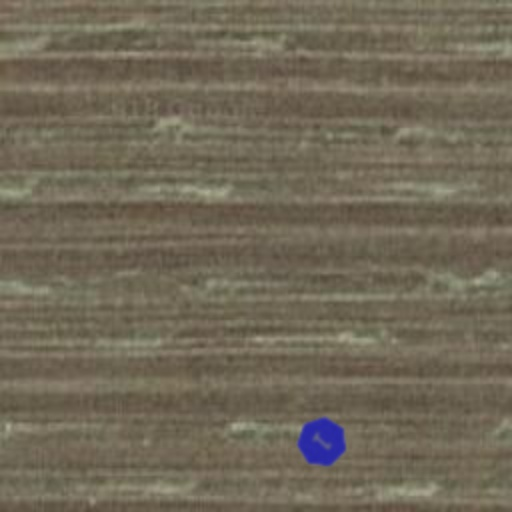heptagon: (286, 406, 358, 478)
